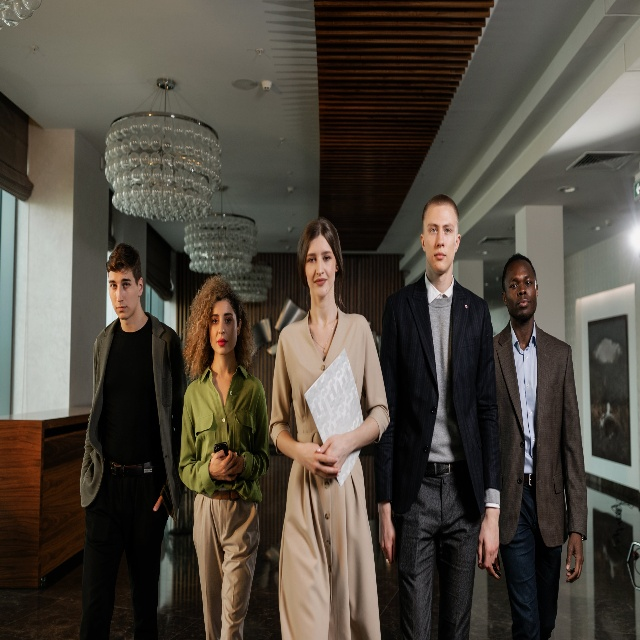Sin_guantes: (297, 440, 341, 478), (317, 433, 347, 473), (477, 517, 498, 569), (564, 532, 584, 583), (208, 450, 241, 480), (377, 514, 396, 564), (210, 450, 240, 476), (486, 553, 502, 581)
